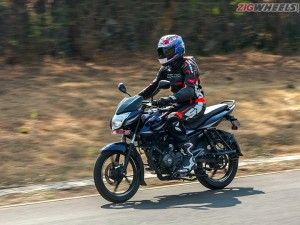helmet: (156, 31, 184, 66)
